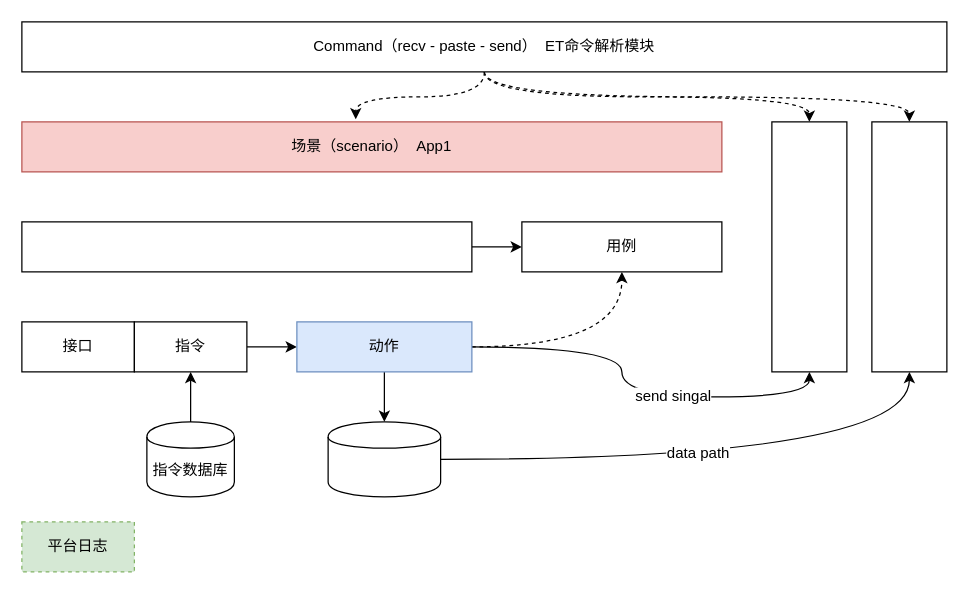
Image size: 969x594. Some labels were removed from this diagram. The shapes that lost their labels are listed below. From the top down, each one's box as (x1, y1, x2, y2) in pixels, then its label:
(21, 221, 472, 272): 设备
(771, 121, 847, 372): 监控 实时显示 App2
(871, 121, 947, 372): 统计中心 App3
(327, 421, 441, 497): 测试数据
